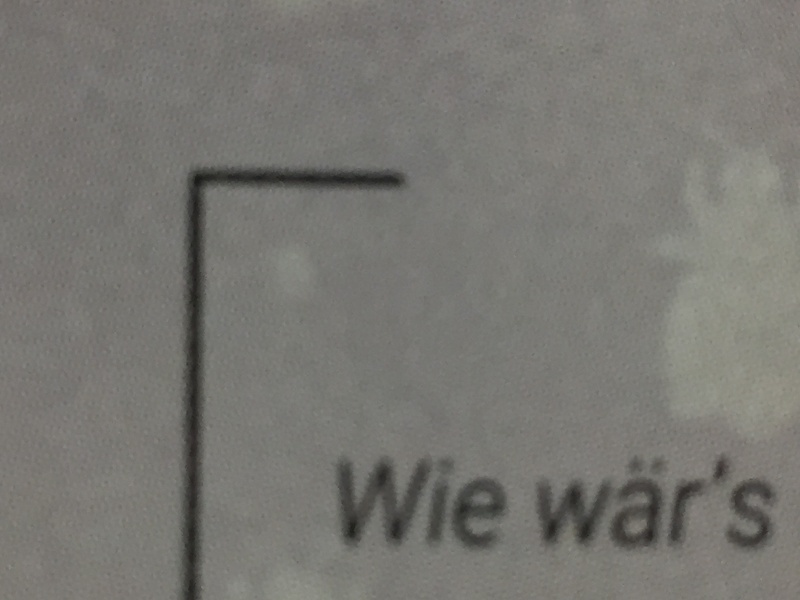text: (353, 457, 368, 549), (369, 457, 384, 549), (385, 457, 400, 549), (401, 457, 416, 549), (417, 457, 432, 549), (433, 457, 448, 549), (449, 457, 464, 549), (465, 457, 480, 549), (481, 457, 496, 549), (545, 458, 560, 550), (561, 458, 576, 550), (577, 458, 592, 550), (593, 458, 608, 550), (609, 458, 624, 550), (625, 458, 640, 550), (641, 458, 656, 550), (657, 458, 672, 550), (673, 458, 688, 550), (689, 458, 704, 550), (705, 458, 720, 550), (721, 458, 736, 550), (737, 458, 752, 550), (753, 458, 768, 550), (338, 457, 352, 549), (497, 457, 510, 549), (535, 458, 544, 550), (769, 458, 774, 550)
